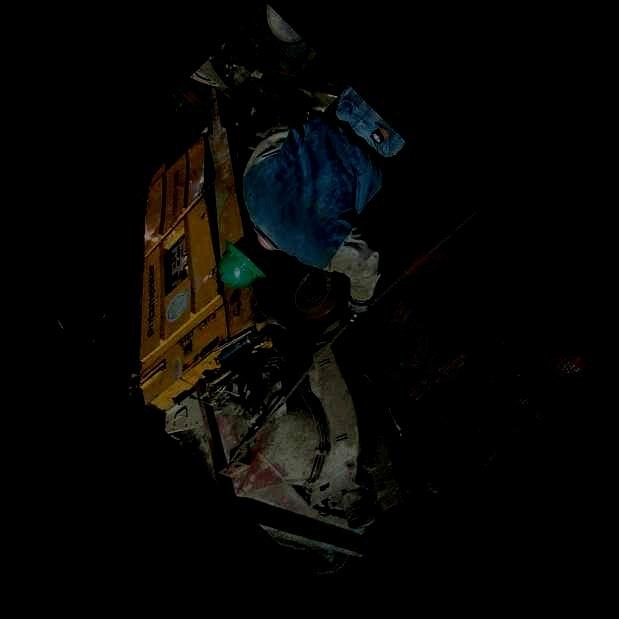helmet: (219, 235, 270, 288)
